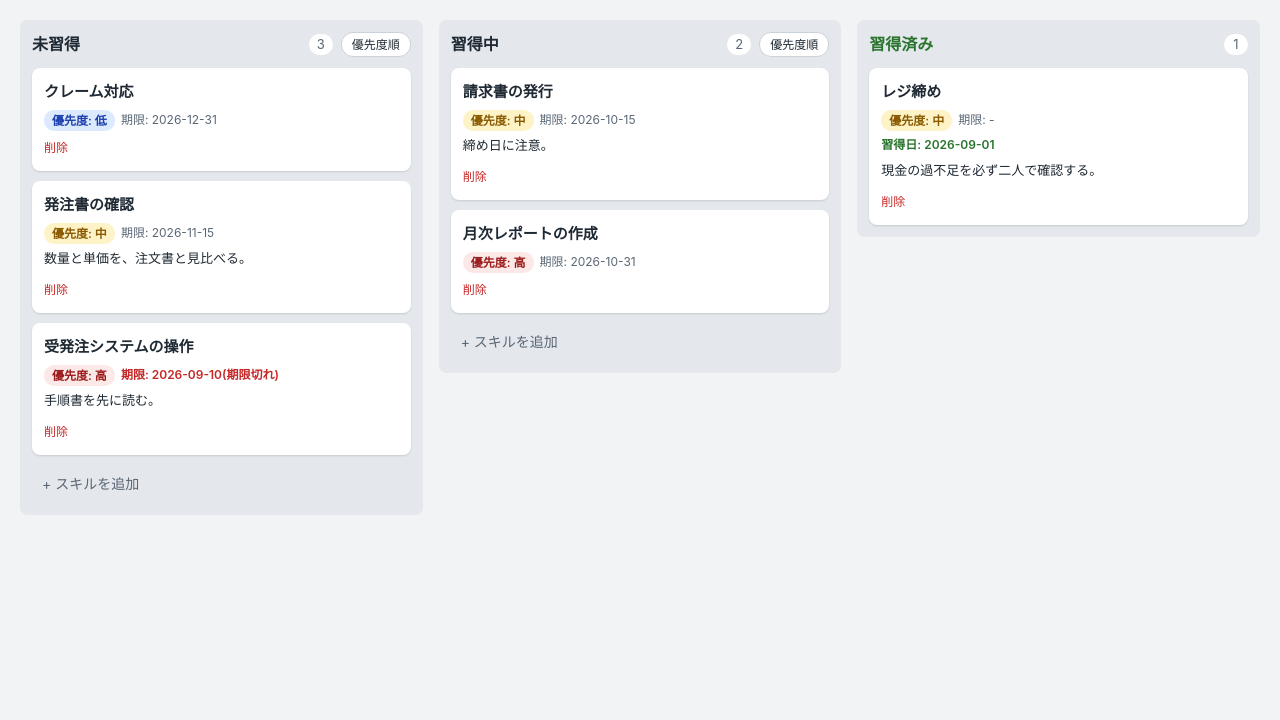
Test: Board: スキルの追加 › 習得中の「+ スキルを追加」では、見出しが「習得中」になる
The width and height of the screenshot is (1280, 720).
What coordinates should you click on to do the following:
click the button "+ スキルを追加" below "2026-10-31"
I would click on:
 (509, 341)
Its box is top-left (451, 323), bottom-right (829, 361).
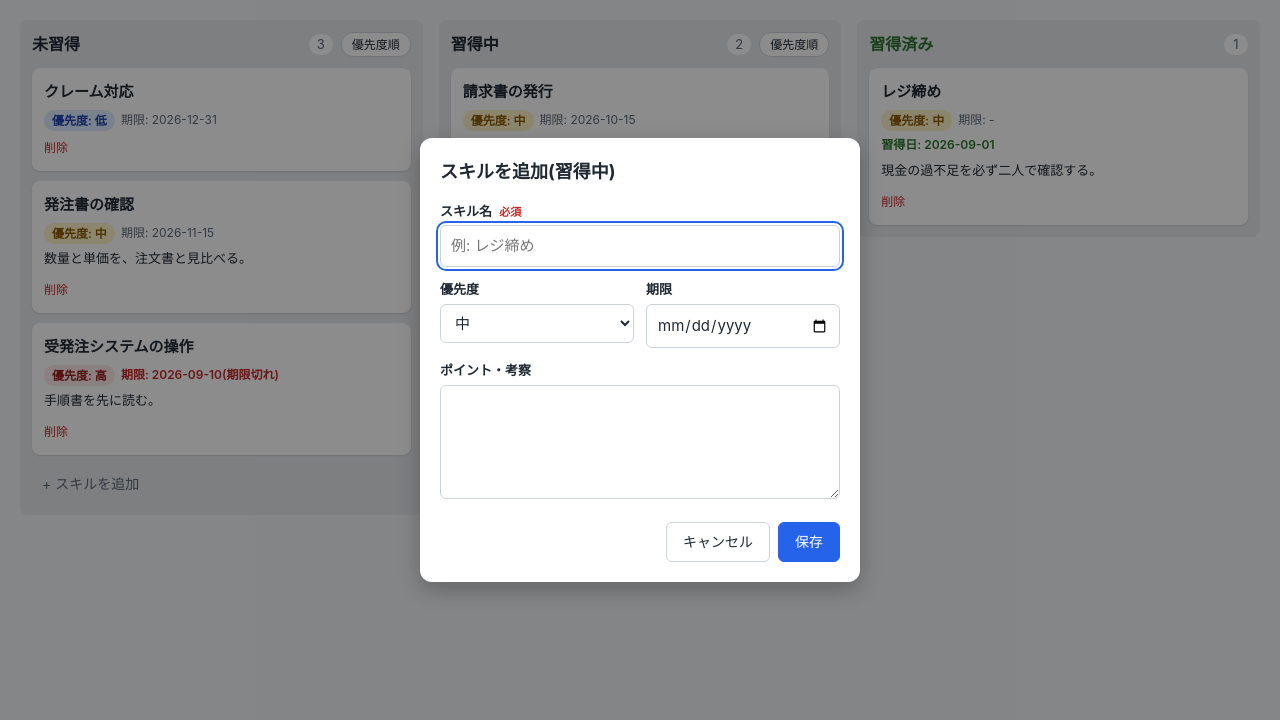
Expected: the dialog "スキルを追加(習得中)" is shown, top-left (420, 138), bottom-right (860, 582)
